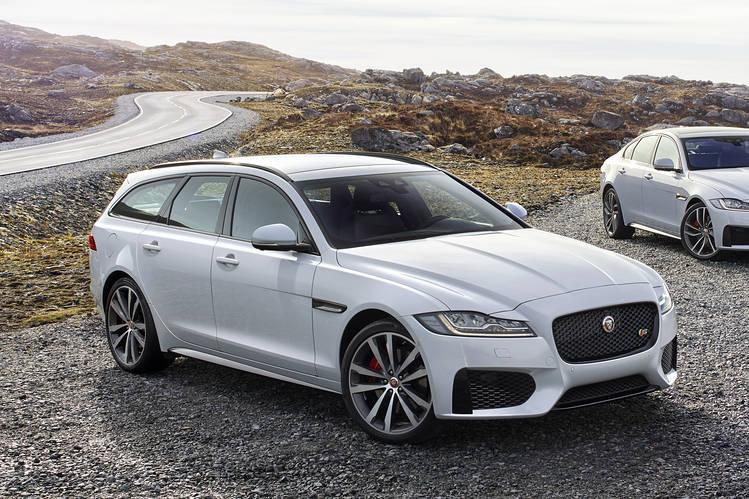car: (82, 151, 690, 442), (597, 126, 749, 254)
